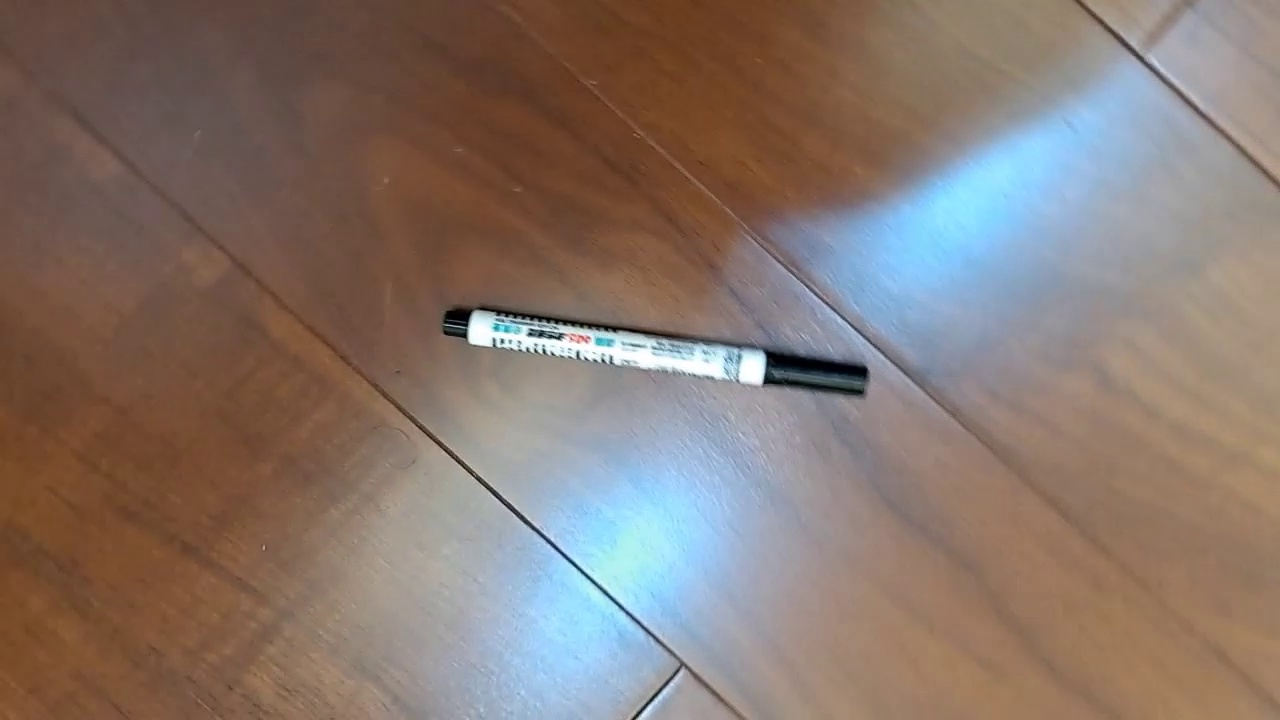pen: (441, 305, 871, 399)
